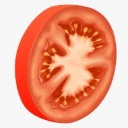tomato: (15, 5, 122, 123)
